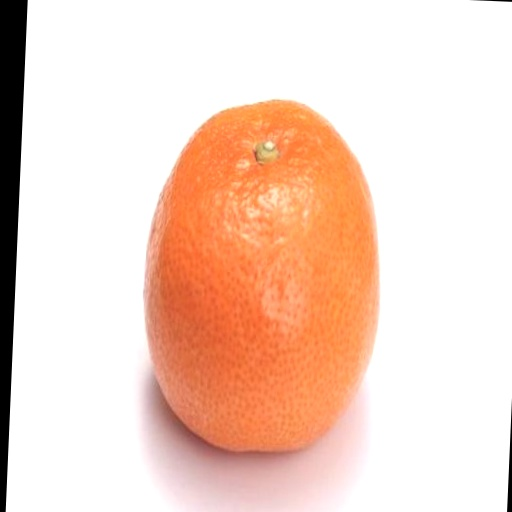fruit: (144, 101, 379, 451)
